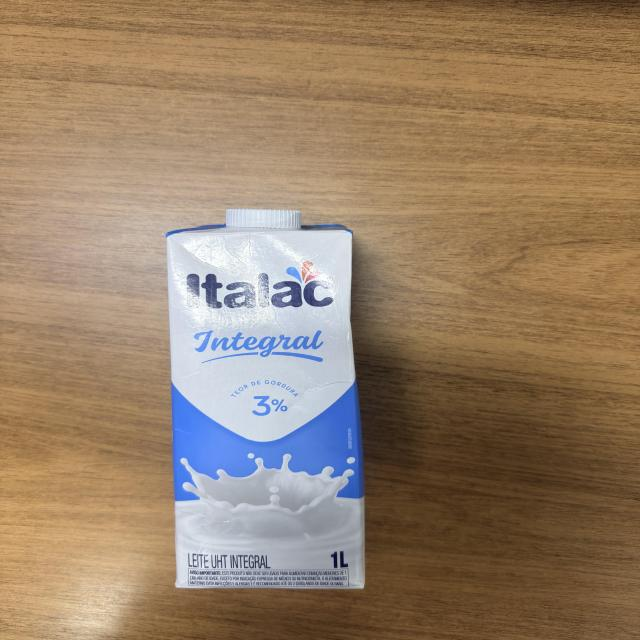Caixa de Leite: (168, 219, 368, 583)
